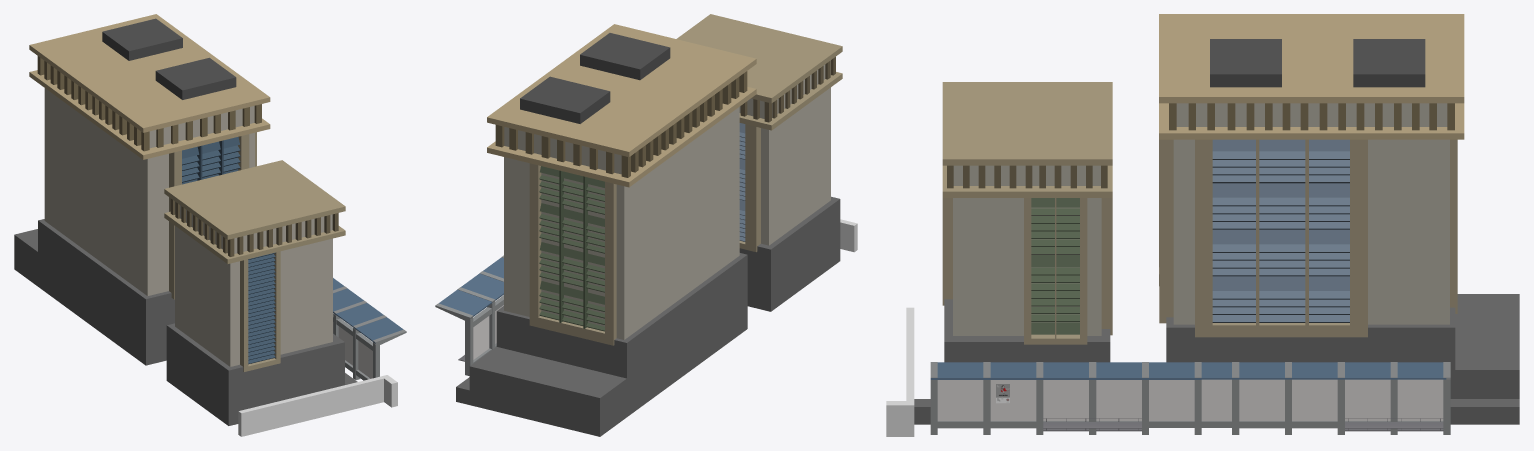
The model's file is Bus Station with TwoBuilding.fbx.
3 renders of one model, left to right at view 1: azimuth 30°, elevation 25°; view 2: azimuth 150°, elevation 25°; view 3: azimuth 270°, elevation 25°, orthographic. The views are drawn at different scales.
Parts seen in each view (by area): view 1: Cube.038, Cube.037, Cube.193, Cube.039, Cube.036, Cube.055, Cube.360, Cube.194, Cube.332, Cube.331, Cube.173, Cube.022 (+7 smaller); view 2: Cube.038, Cube.039, Cube.193, Cube.358, Cube.037, Cube.055, Cube.036, Cube.194, Cube.332, Cube.331, Cube.296, Cube.292 (+13 smaller); view 3: Cube.038, Cube.193, Cube.055, Cube.037, Cube.039, Cube.358, Cube.036, Cube.022, Cube.194, Cube.049, Cube.241, Cube.263 (+47 smaller).
Part boxes in pixels (box(x1,y1,x2,y2)): Cube.038: box(44, 88, 254, 295); Cube.037: box(175, 202, 332, 366); Cube.193: box(29, 14, 270, 132); Cube.039: box(38, 219, 174, 365); Cube.036: box(166, 323, 354, 425); Cube.055: box(164, 160, 345, 239); Cube.360: box(238, 375, 388, 436); Cube.194: box(29, 70, 270, 159); Cube.332: box(155, 57, 236, 99); Cube.331: box(102, 18, 182, 60); Cube.173: box(240, 251, 280, 371); Cube.022: box(333, 278, 403, 343); Cube.038: box(504, 107, 739, 339); Cube.039: box(496, 253, 747, 416); Cube.193: box(487, 24, 756, 156); Cube.358: box(456, 346, 626, 436); Cube.037: box(739, 60, 830, 245); Cube.055: box(676, 14, 842, 103); Cube.036: box(739, 196, 840, 311); Cube.194: box(487, 87, 756, 187); Cube.332: box(580, 33, 670, 80); Cube.331: box(520, 76, 610, 123); Cube.296: box(739, 124, 760, 252); Cube.292: box(529, 163, 541, 327); Cube.038: box(1173, 103, 1449, 324); Cube.193: box(1159, 14, 1464, 103); Cube.055: box(942, 82, 1112, 165); Cube.037: box(953, 165, 1101, 335); Cube.039: box(1166, 307, 1455, 424); Cube.358: box(1454, 294, 1519, 424); Cube.036: box(944, 299, 1110, 362); Cube.022: box(930, 362, 1201, 379); Cube.194: box(1159, 103, 1464, 139); Cube.049: box(1201, 362, 1446, 379); Cube.241: box(1195, 139, 1212, 337); Cube.263: box(1350, 139, 1367, 337).
Size of the model in its own units: 967 by 1298 by 2217.
